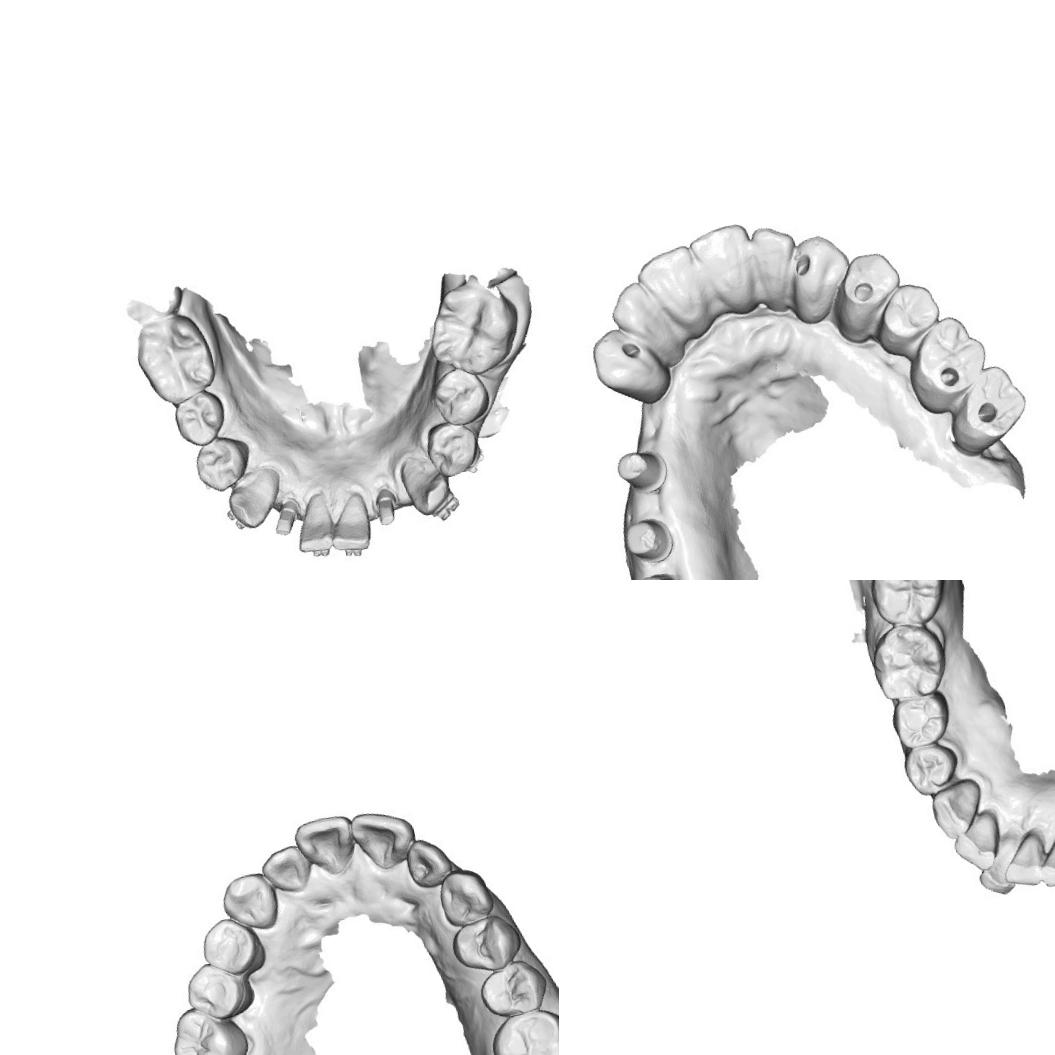abutment: (610, 440, 671, 501), (618, 509, 678, 568), (266, 492, 306, 546), (367, 482, 402, 534), (625, 561, 700, 580)
canine: (778, 221, 857, 322), (584, 320, 667, 402), (217, 866, 286, 939), (426, 866, 500, 934), (218, 466, 290, 532), (396, 448, 456, 522), (929, 776, 991, 842)
incisor: (685, 219, 766, 315), (630, 240, 711, 326), (346, 802, 422, 876), (604, 274, 676, 352), (745, 219, 808, 305), (290, 812, 360, 882), (968, 837, 1030, 902), (400, 831, 455, 892), (322, 492, 376, 554), (289, 491, 339, 556), (256, 841, 312, 898), (1006, 830, 1052, 891), (952, 812, 1002, 862), (1039, 831, 1055, 890)
molar: (417, 272, 530, 386), (900, 308, 996, 412), (128, 309, 223, 411), (944, 359, 1036, 452), (870, 622, 948, 702), (164, 998, 254, 1055), (864, 580, 945, 630), (485, 1004, 559, 1055)
premolar: (828, 245, 909, 336), (178, 954, 259, 1028), (871, 276, 946, 351), (473, 954, 554, 1022), (448, 909, 524, 978), (424, 362, 494, 435), (195, 911, 266, 982), (186, 430, 258, 498), (417, 415, 485, 484), (166, 386, 231, 454), (899, 735, 958, 795), (890, 694, 945, 745)
